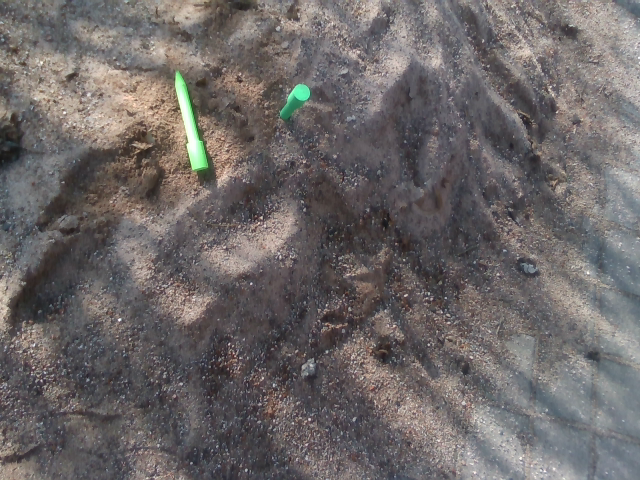Probe: (170, 67, 213, 177), (273, 79, 314, 126)
